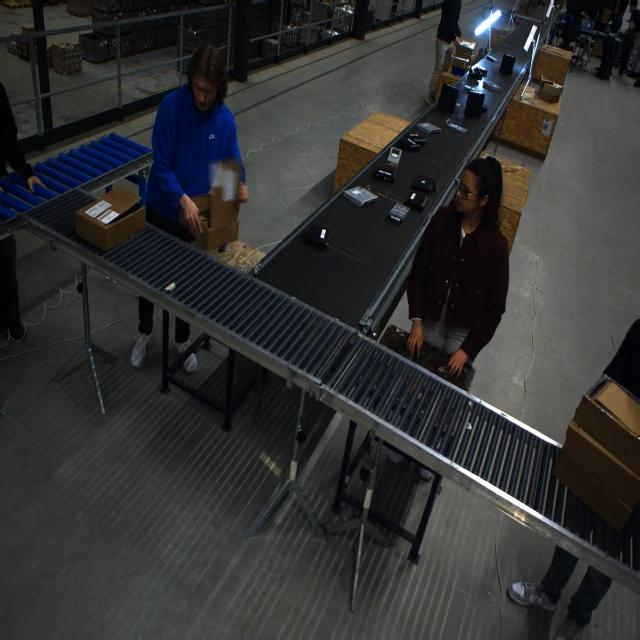box: (552, 375, 640, 532), (179, 162, 241, 253), (75, 186, 147, 251)
product: (342, 186, 376, 208), (302, 224, 330, 250), (438, 83, 460, 113), (464, 89, 485, 119), (410, 174, 436, 195), (403, 191, 428, 212), (389, 204, 410, 224), (499, 53, 516, 75), (372, 168, 395, 184), (444, 118, 467, 134), (399, 135, 420, 151), (415, 122, 441, 134), (386, 148, 401, 167), (482, 79, 501, 91)
